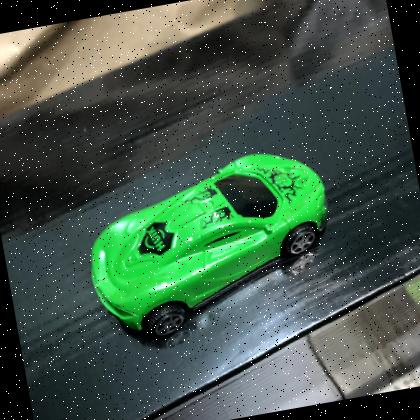Car: (90, 154, 329, 339)
